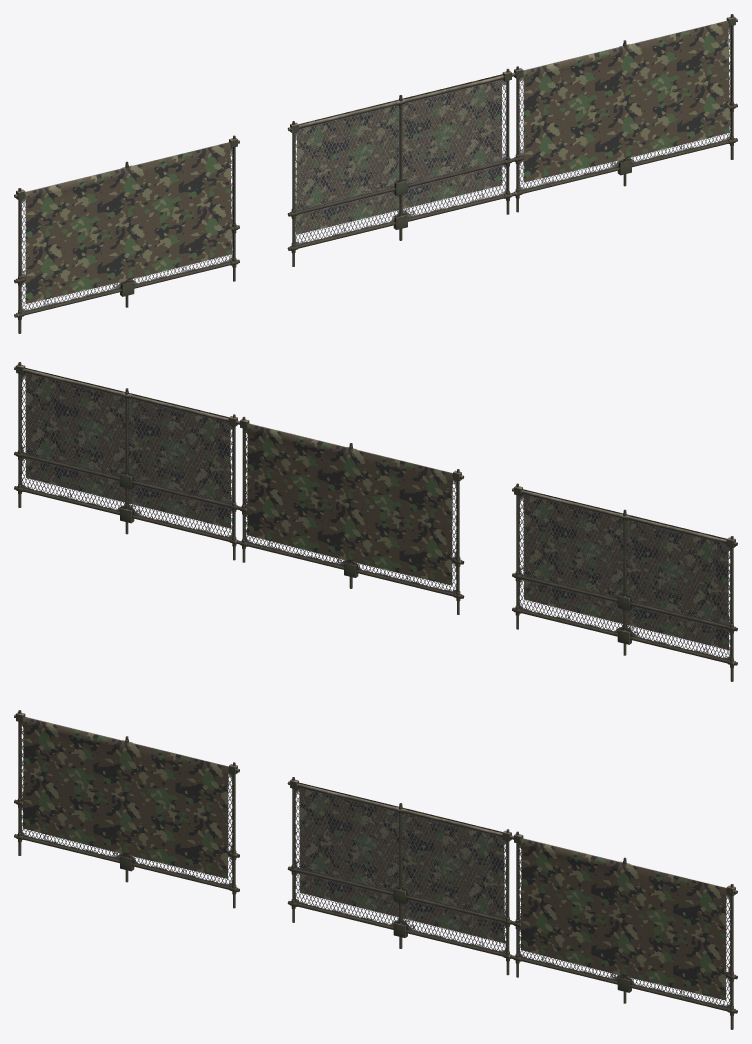
Rendered from fence__cloth_metal_-_13mb.glb.
3 views of the same model, one above another, from view 1: azimuth 30°, elevation 25°; view 2: azimuth 150°, elevation 25°; view 3: azimuth 330°, elevation 25° (orthographic).
Parts seen in each view (by area): view 1: fence, fence_2, fence_1; view 2: fence_1, fence, fence_2; view 3: fence, fence_2, fence_1.
Part boxes in pixels (x1,y1,x2,y2): fence: [14, 135, 239, 333]; fence_2: [513, 14, 737, 212]; fence_1: [287, 68, 513, 266]; fence_1: [238, 416, 464, 614]; fence: [512, 483, 737, 681]; fence_2: [14, 362, 238, 560]; fence: [14, 710, 239, 908]; fence_2: [512, 831, 737, 1029]; fence_1: [287, 777, 512, 975].
Size of the model in its own units: 18.25 by 3.5 by 0.2371.
1 material, 1 textured.
